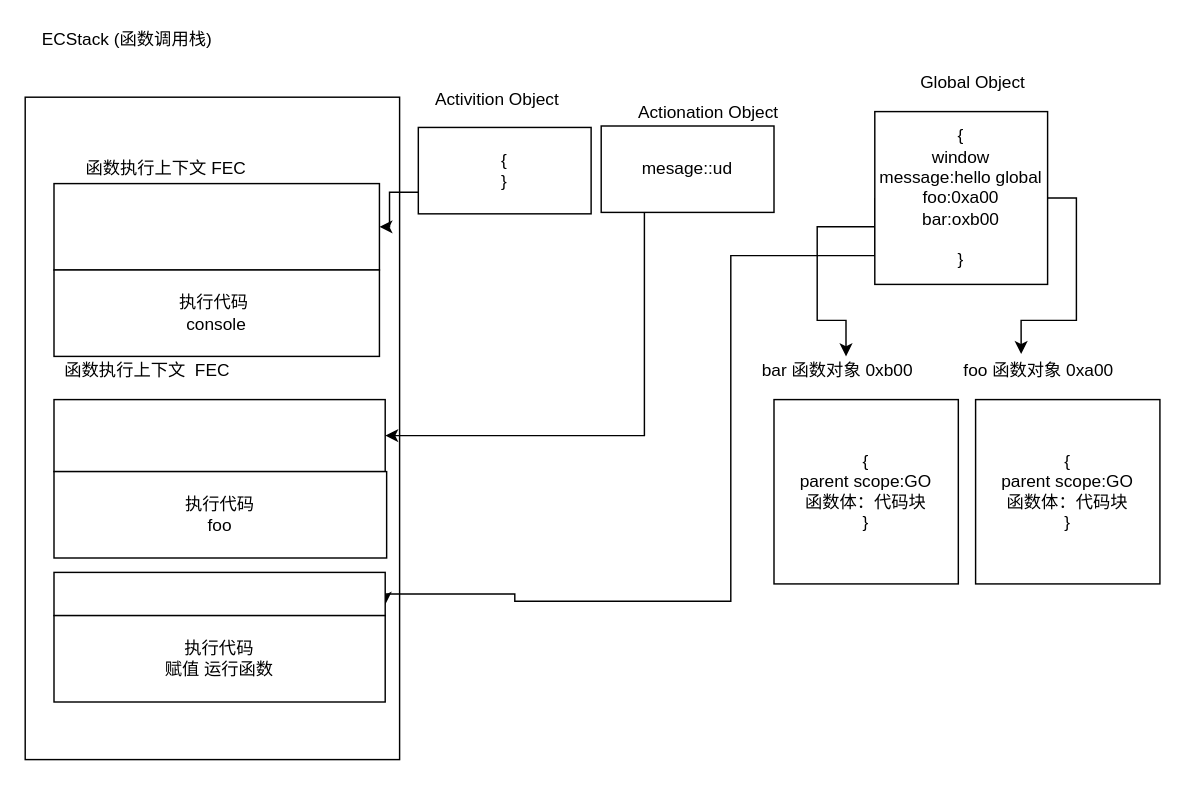
Some shapes in this 1185 by 785 pixel diagram are drawn without their labels. The shapes that lost their labels are listed below. From the top down, each one's centre as x and y in pixels, then its label:
[216,226]: VO:AO scope chain :VO+parent scope
[219,435]: VO：AO
[219,593]: VO:GO
